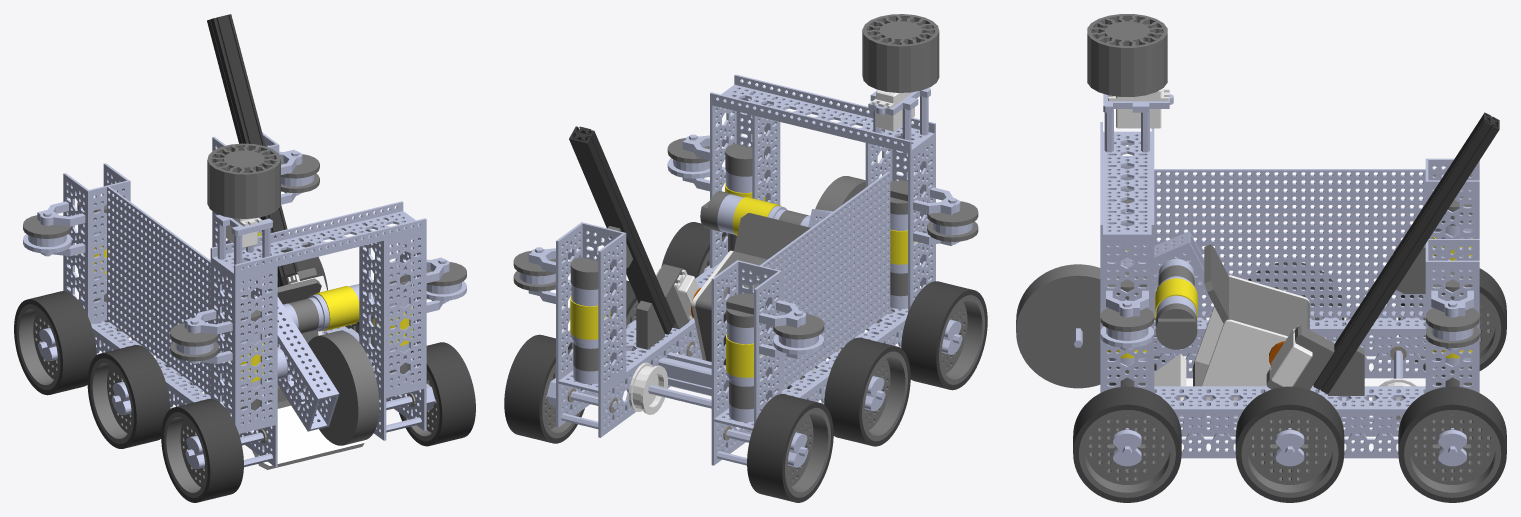
File: Gobilda_Assembly_FBX_fixed.fbx
The picture shows the model from 3 angles, left to right: view 1: azimuth 30°, elevation 25°; view 2: azimuth 150°, elevation 25°; view 3: azimuth 270°, elevation 25°; orthographic projection. The views are drawn at different scales.
Visible parts, largest first — view 1: Body1 (×24), Body2 (×5), Body44, Body7 (×2), Body8 (×2), Body40; view 2: Body1 (×30), Body2 (×4), Body43 (×5), Body44 (×4), Body42 (×3), Body7 (×2), Body8 (×2), Body40 (×2); view 3: Body1 (×32), Body2 (×6), Body43, Body7, Body8, Body44.
Boxes of the visible parts, x1,y1,x2,y2 form: Body1 (×24): [14, 14, 475, 502]; Body2 (×5): [16, 15, 439, 497]; Body44: [314, 286, 359, 331]; Body7 (×2): [23, 215, 466, 286]; Body8 (×2): [170, 154, 319, 346]; Body40: [287, 298, 319, 333]; Body1 (×30): [504, 14, 987, 502]; Body2 (×4): [542, 295, 984, 497]; Body43 (×5): [570, 143, 920, 327]; Body44 (×4): [570, 197, 920, 377]; Body42 (×3): [571, 194, 786, 382]; Body7 (×2): [667, 138, 824, 339]; Body8 (×2): [513, 201, 978, 276]; Body40 (×2): [573, 342, 761, 409]; Body1 (×32): [1016, 14, 1506, 502]; Body2 (×6): [1078, 114, 1501, 497]; Body43: [1155, 303, 1197, 349]; Body7: [1100, 308, 1153, 331]; Body8: [1426, 308, 1479, 331]; Body44: [1155, 278, 1197, 318].
Bounding box in the file's own units: 12.89 × 13.86 × 17.11.
